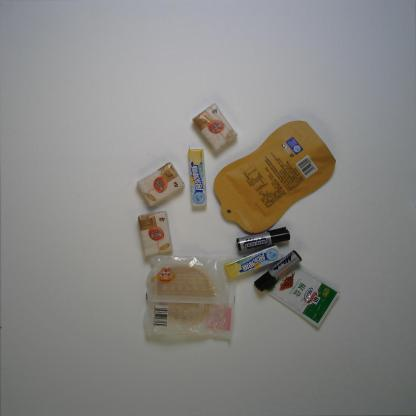Candy: (224, 242, 281, 278), (188, 148, 208, 206)
Dessert: (143, 254, 237, 343)
Dried Fruit: (214, 118, 338, 235)
Seasoner: (263, 263, 342, 328)
Stationery: (254, 249, 303, 292), (234, 226, 291, 251)
Tissue: (190, 102, 238, 156), (137, 162, 185, 208), (137, 210, 172, 256)
